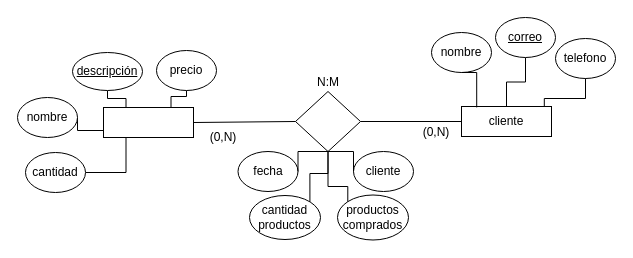
Image size: 633x258. Some labels were removed from this diagram. Here are the shapes that lost their labels. From the top down, the centre of each, then its label:
At point (148, 122): "productos".
At point (327, 121): "pedido".
